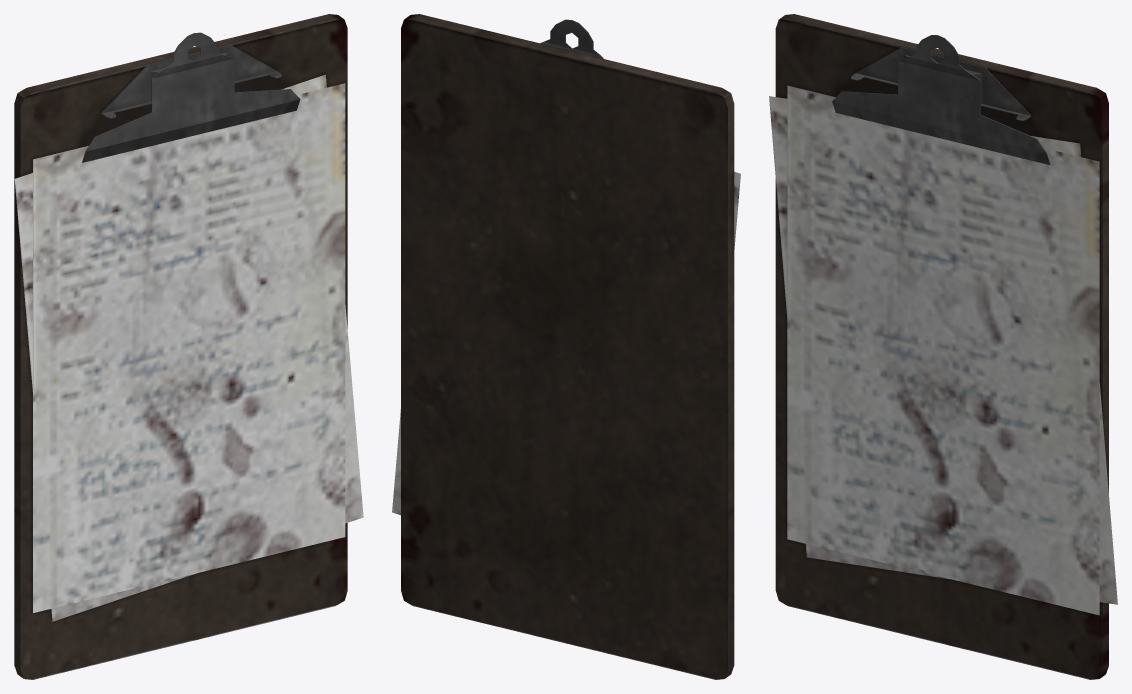
File: Patient Sheet With Clipboard_EmbededMedia.fbx
3 views of the same model, side by side, from view 1: azimuth 30°, elevation 25°; view 2: azimuth 150°, elevation 25°; view 3: azimuth 330°, elevation 25° (orthographic).
Visible parts, largest first — view 1: Paper, Clipboard, Plane006, Paper02, Plane007; view 2: Clipboard, Plane006, Paper02; view 3: Paper, Clipboard, Plane006, Paper02, Plane007.
Part boxes in pixels (x1,y1,x2,y2): Paper: (33, 83, 345, 612); Clipboard: (14, 14, 347, 679); Plane006: (82, 32, 300, 162); Paper02: (14, 74, 363, 621); Plane007: (101, 45, 281, 118); Clipboard: (401, 14, 734, 679); Plane006: (540, 19, 603, 58); Paper02: (392, 171, 740, 515); Paper: (787, 85, 1099, 615); Clipboard: (775, 14, 1108, 679); Plane006: (832, 35, 1050, 164); Paper02: (769, 96, 1117, 604); Plane007: (851, 47, 1031, 120).
Bounding box in the file's own units: 8.46 × 14.2 × 0.5733.
1 material, 1 textured.
